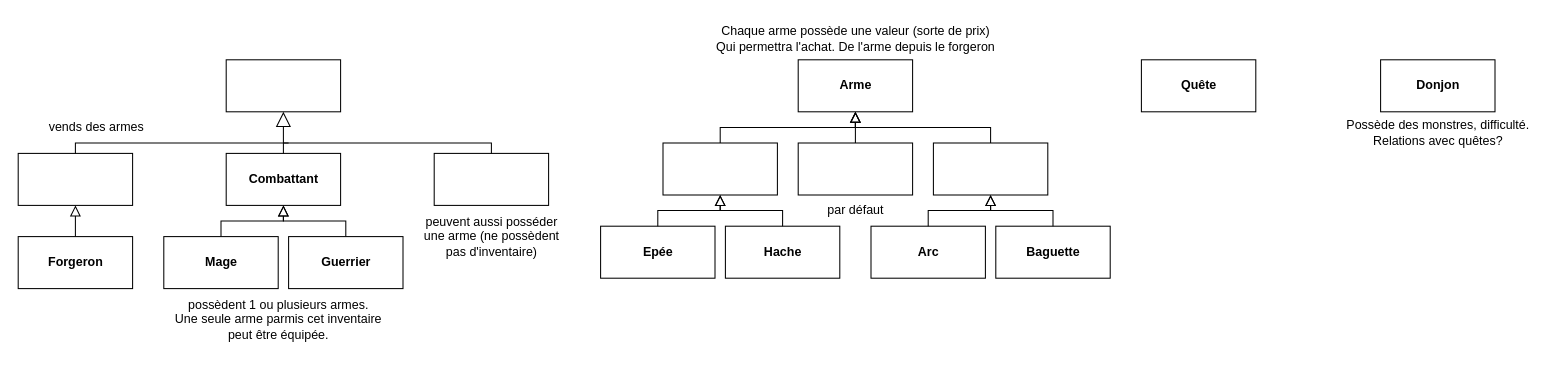
Some shapes in this 1560 by 368 pixel diagram are drawn without their labels. Here are the shapes that lost their labels. From the top down, the centre of each, then its label:
At point 283,85: "Personnage".
At point 75,178: "Marchand".
At point 491,178: "Monstre".
At point 719,168: "Mélée".
At point 855,168: "Mains".
At point 990,168: "Distance".
